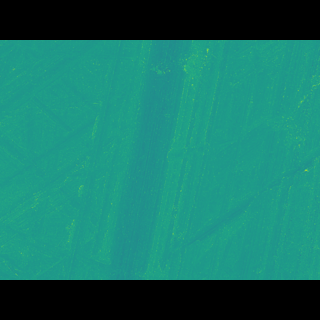Loch: (0, 68, 133, 251), (155, 122, 320, 250)
